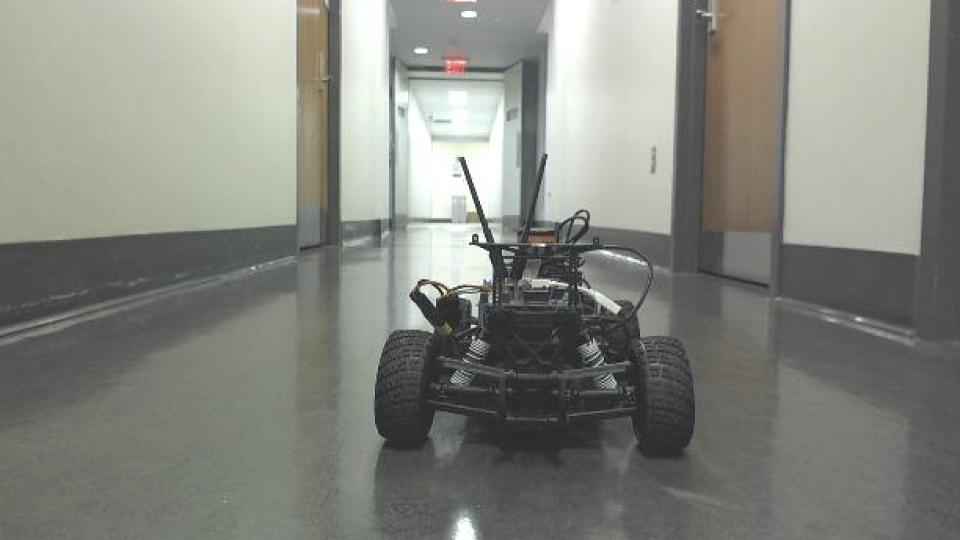car: (372, 151, 700, 457)
